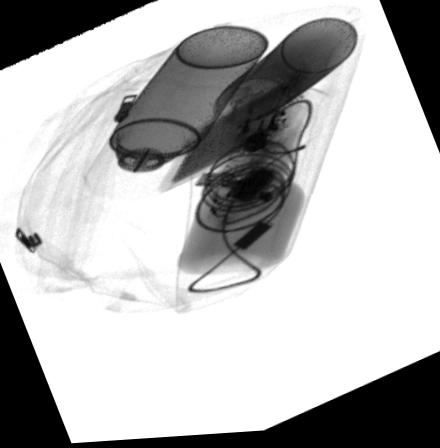Lighter: (229, 64, 291, 159)
Powerbank: (156, 65, 311, 197)
Sprayer: (81, 27, 266, 201)
